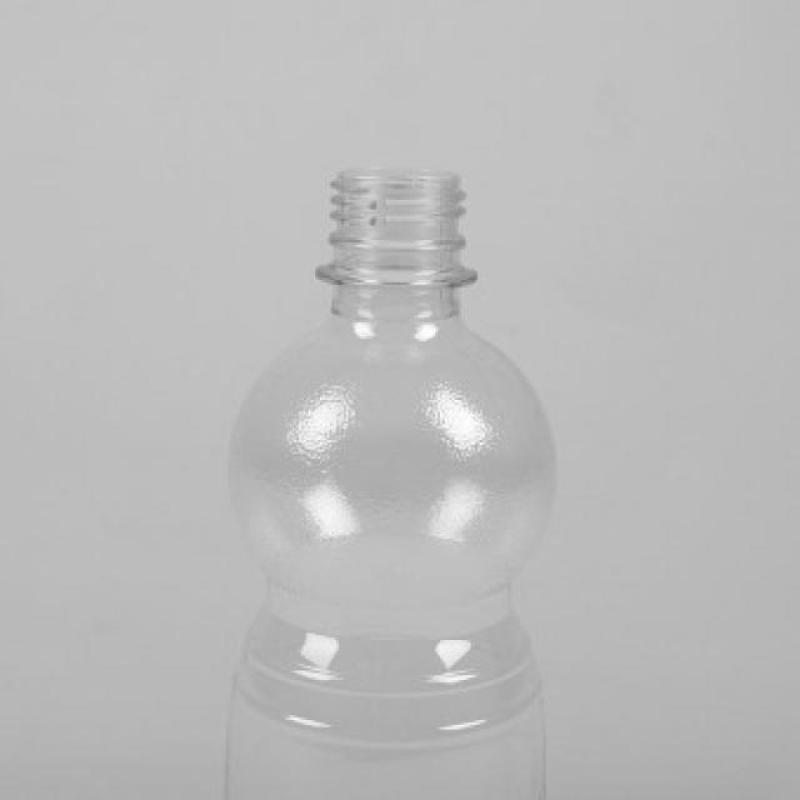botella: (221, 165, 551, 800)
